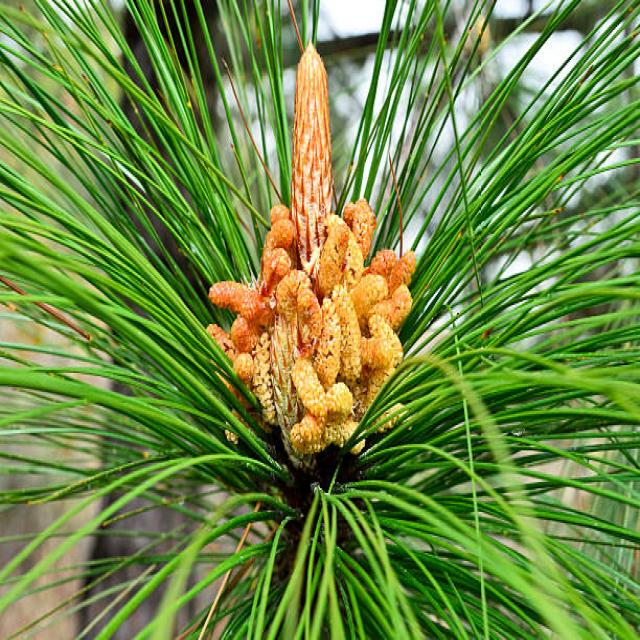Pine: (79, 7, 567, 620), (221, 132, 476, 416)
